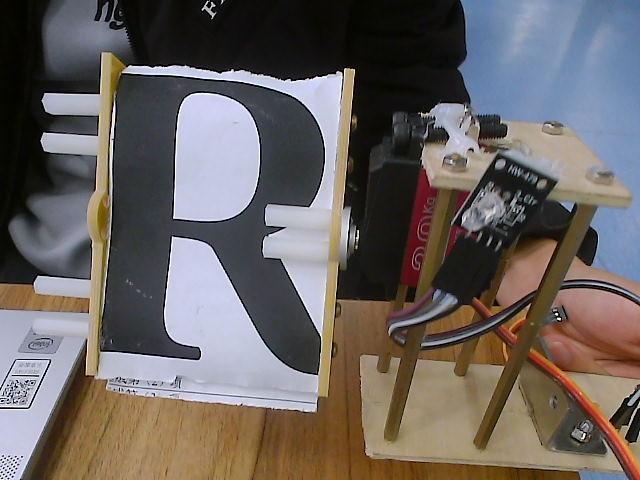R: (27, 51, 388, 444)
